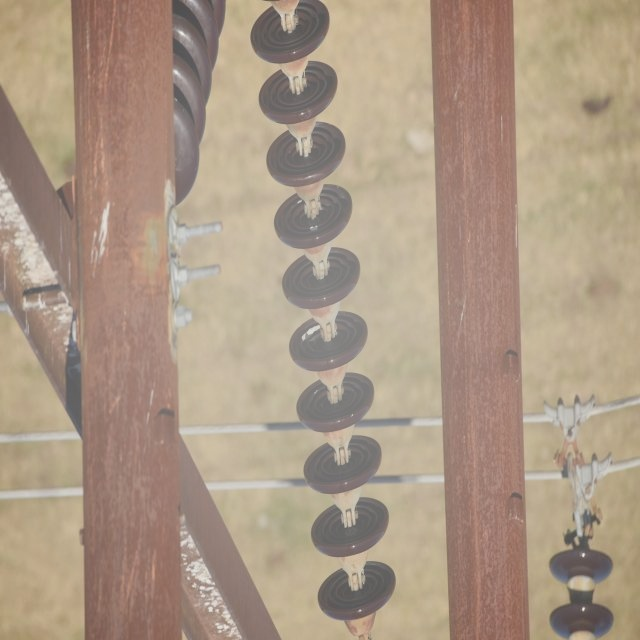insulator: (251, 7, 395, 615), (153, 0, 226, 202), (550, 545, 614, 639)
